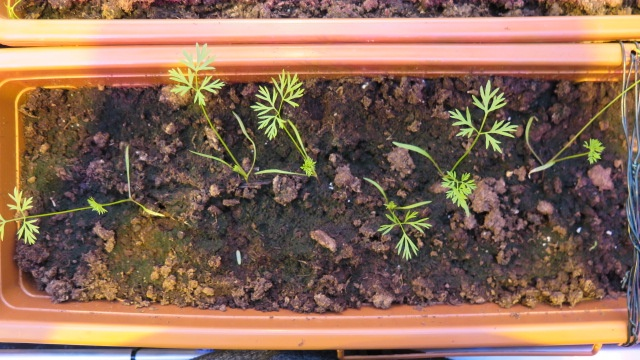crop: (413, 83, 519, 213), (165, 41, 254, 185), (245, 68, 324, 189), (360, 176, 438, 264)
